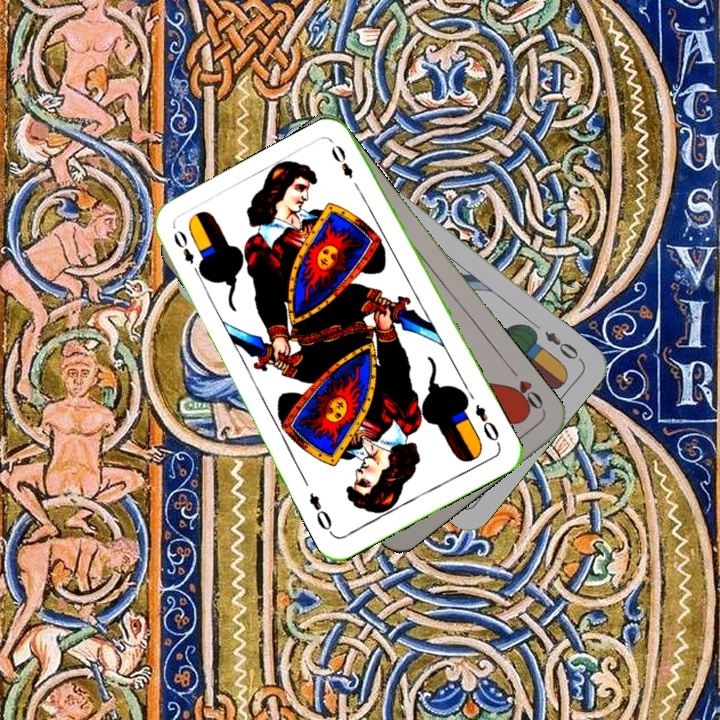EO: (169, 225, 205, 280), (470, 400, 503, 448), (540, 327, 581, 363)
HO: (505, 363, 546, 415)
